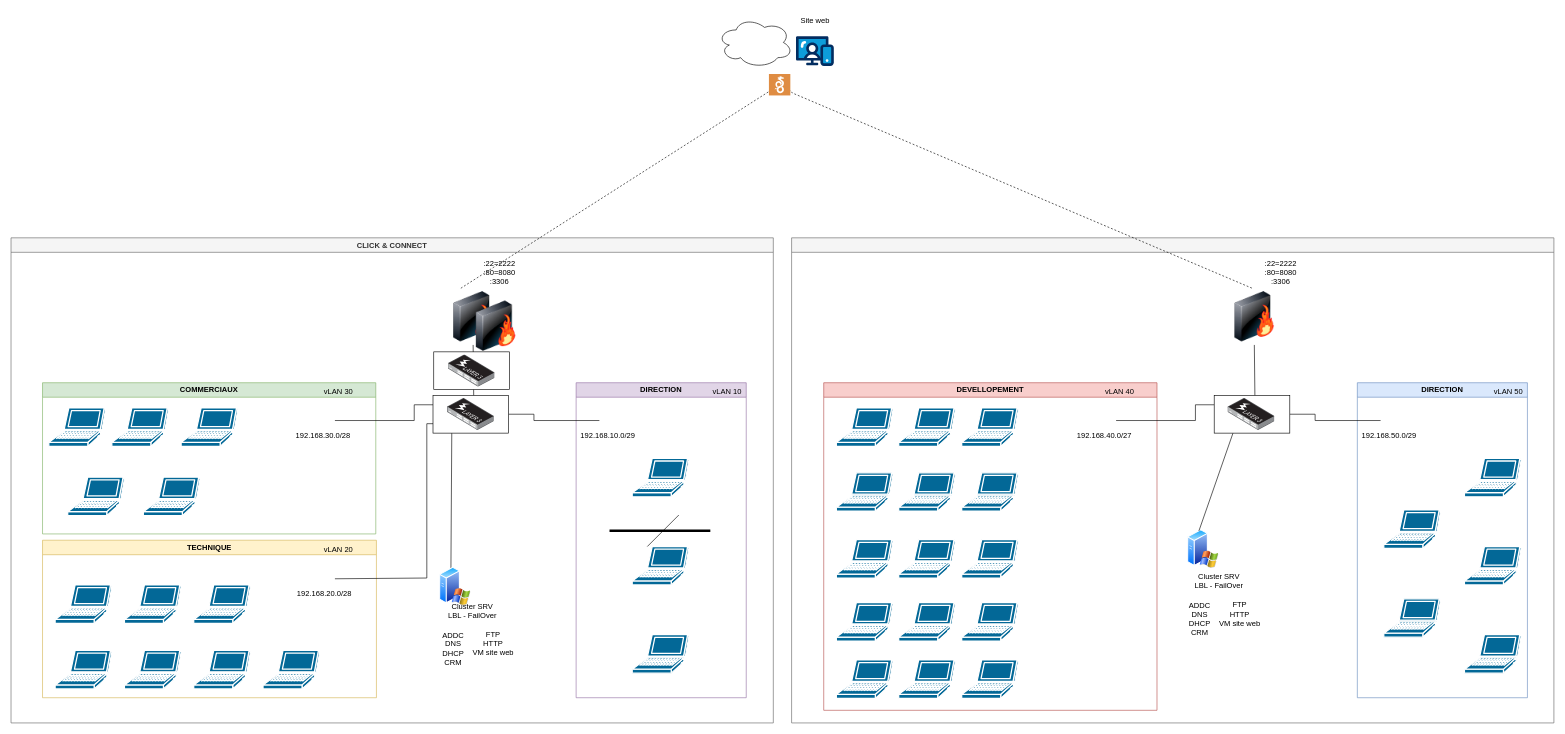
Image size: 1565x734. Some labels were removed from this diagram. The shapes that lost their labels are listed below. From the top down, each one's centre as x and y in pixels, then its label:
At point 755,42: "www".
At point 1172,480: "INNOVATECH".
